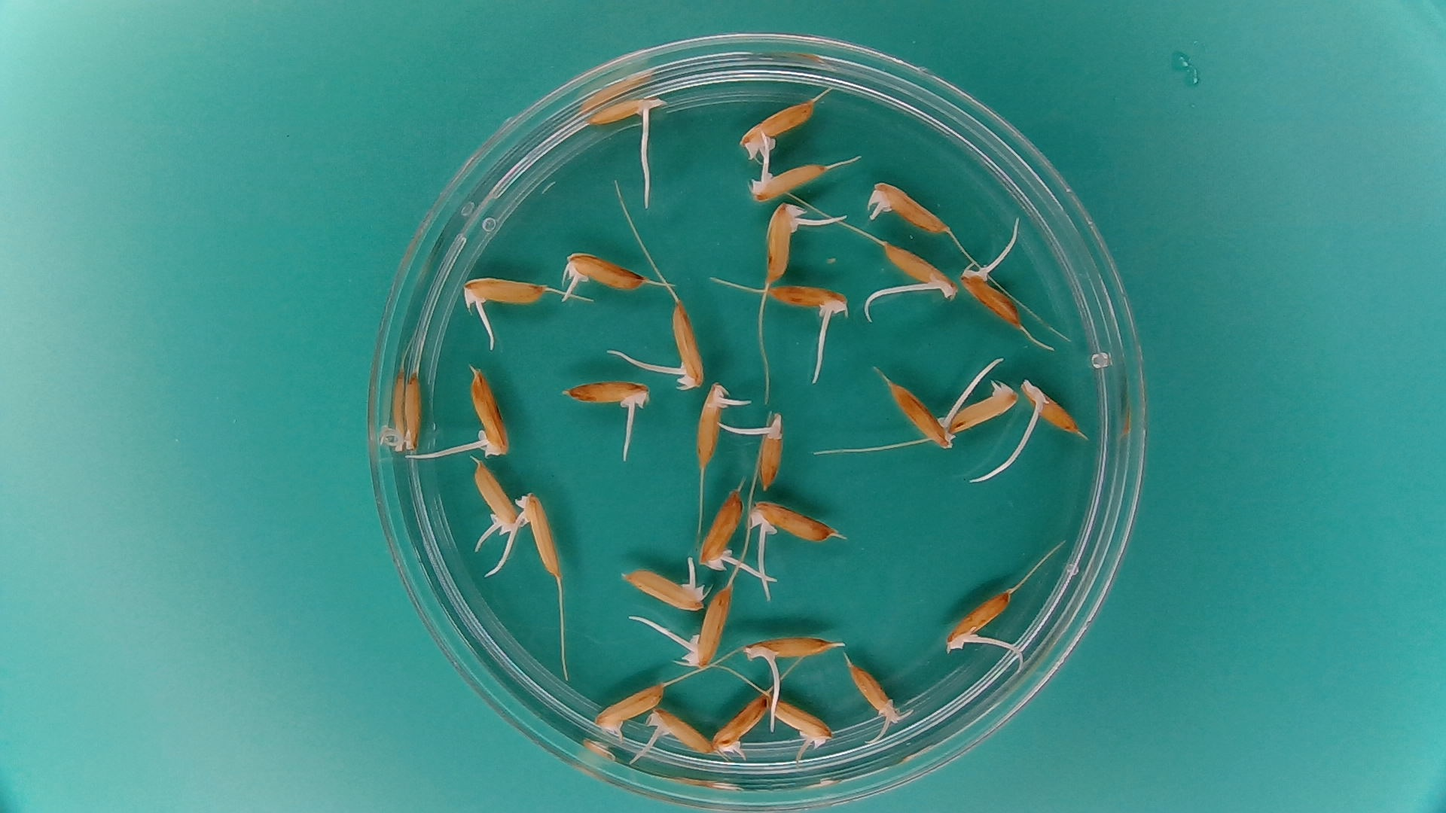yes: (737, 96, 819, 160), (886, 379, 956, 449), (680, 583, 736, 669), (746, 498, 841, 547), (514, 489, 565, 580), (944, 589, 1014, 653), (881, 240, 959, 297), (465, 363, 511, 459), (871, 180, 951, 235), (592, 680, 667, 738), (559, 246, 648, 294), (459, 273, 547, 321), (697, 481, 745, 568), (712, 689, 776, 754), (471, 459, 519, 545), (760, 199, 808, 282), (736, 631, 843, 668), (951, 376, 1020, 431), (1020, 381, 1084, 440), (746, 155, 828, 201), (619, 568, 706, 611), (959, 269, 1022, 328), (848, 660, 902, 727), (646, 705, 716, 755), (767, 698, 834, 749), (670, 298, 706, 392), (698, 382, 735, 471), (750, 409, 788, 492), (764, 280, 847, 316), (564, 379, 650, 410), (590, 95, 666, 126), (398, 373, 427, 453)
